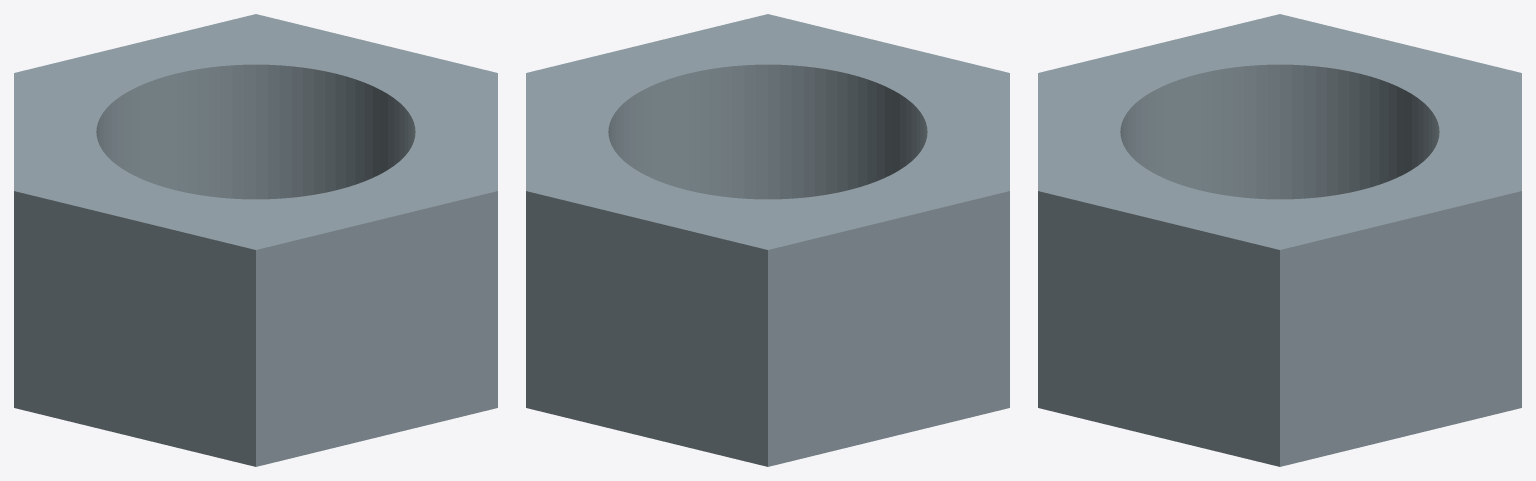
Rendered from rod-nut.glb.
3 views of the same model, side by side, from view 1: azimuth 30°, elevation 25°; view 2: azimuth 150°, elevation 25°; view 3: azimuth 270°, elevation 25° (orthographic).
Parts seen in each view (by area): view 1: rod-nut; view 2: rod-nut; view 3: rod-nut.
Part boxes in pixels (x1,y1,x2,y2): rod-nut: (14,14,497,466); rod-nut: (526,14,1009,466); rod-nut: (1038,14,1521,466).
Size of the model in its own units: 0.014 by 0.006 by 0.0121.
